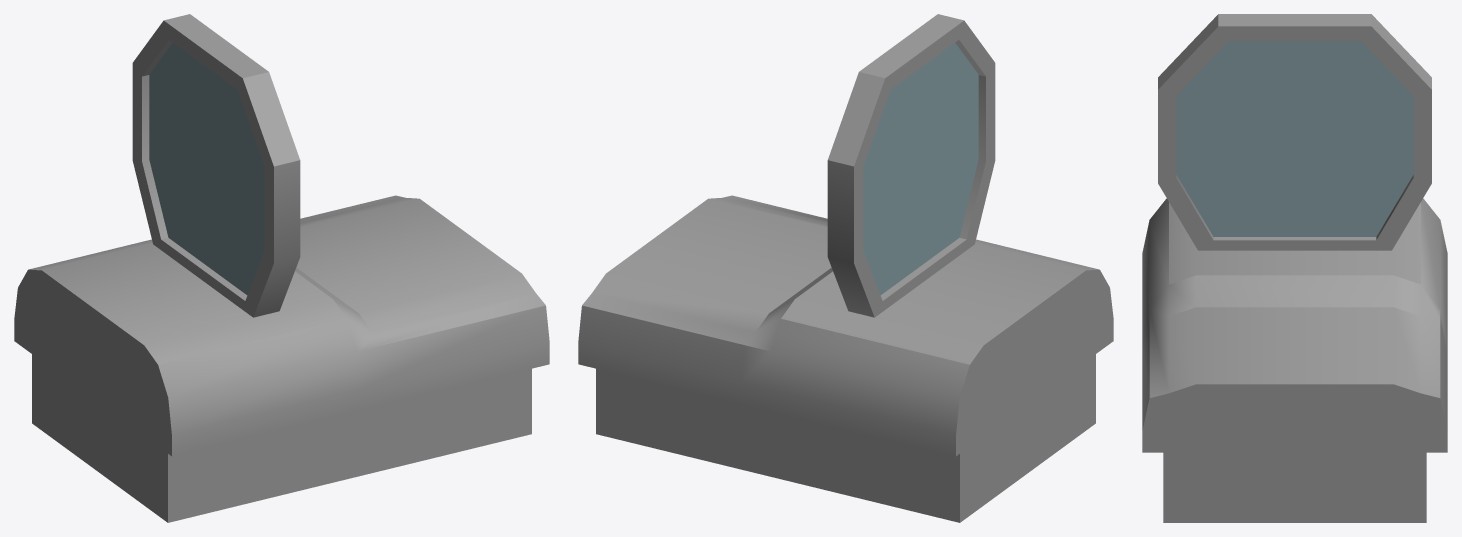
File: quaternius-modular-sci-fi-guns-sight-2.glb
3 renders of one model, left to right at view 1: azimuth 30°, elevation 25°; view 2: azimuth 150°, elevation 25°; view 3: azimuth 270°, elevation 25°, orthographic. The views are drawn at different scales.
Visible parts, largest first — view 1: Sight_2; view 2: Sight_2; view 3: Sight_2.
Part boxes in pixels (x1,y1,x2,y2): Sight_2: [14, 14, 549, 522]; Sight_2: [578, 14, 1113, 522]; Sight_2: [1142, 14, 1447, 522].
Size of the model in its own units: 0.1406 by 0.1418 by 0.1017.
